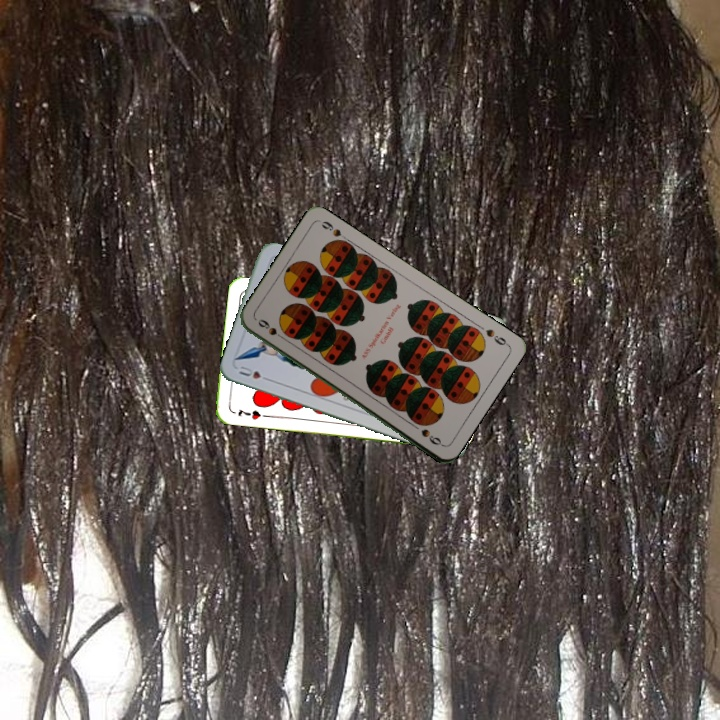H7: (234, 405, 263, 422)
HU: (235, 362, 273, 384)
S9: (254, 315, 289, 343), (482, 325, 511, 349)
